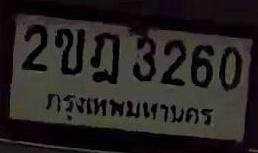number: (17, 18, 248, 95)
province: (44, 91, 215, 128)
